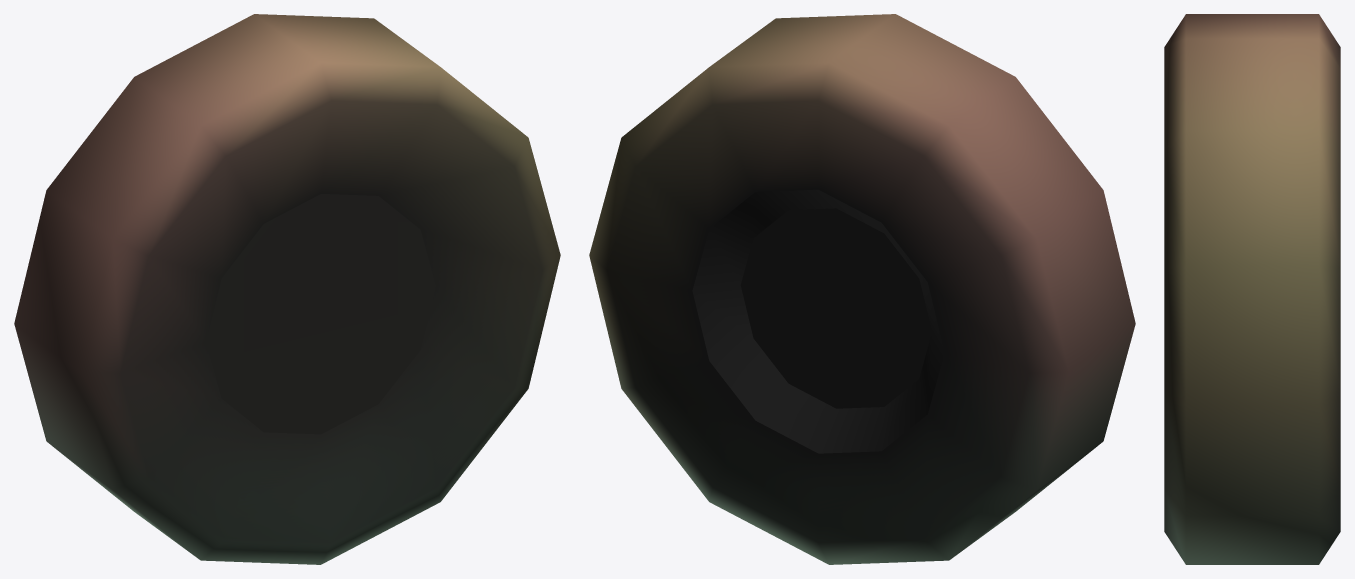
The model's file is Wheel.fbx.
3 renders of one model, left to right at view 1: azimuth 30°, elevation 25°; view 2: azimuth 150°, elevation 25°; view 3: azimuth 270°, elevation 25°, orthographic.
Parts seen in each view (by area): view 1: FrontDriver; view 2: FrontDriver; view 3: FrontDriver.
Boxes of the visible parts, box(x1,y1,x2,y2) form: FrontDriver: box(14, 14, 560, 564); FrontDriver: box(589, 14, 1135, 564); FrontDriver: box(1164, 14, 1340, 564).
Size of the model in its own units: 161 by 161 by 51.33.
